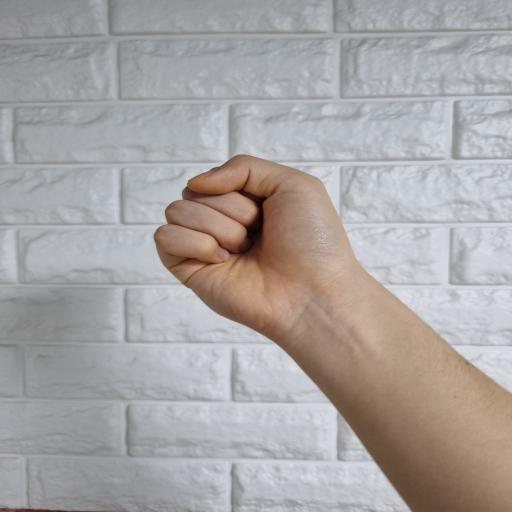Rock: (152, 157, 363, 344)
